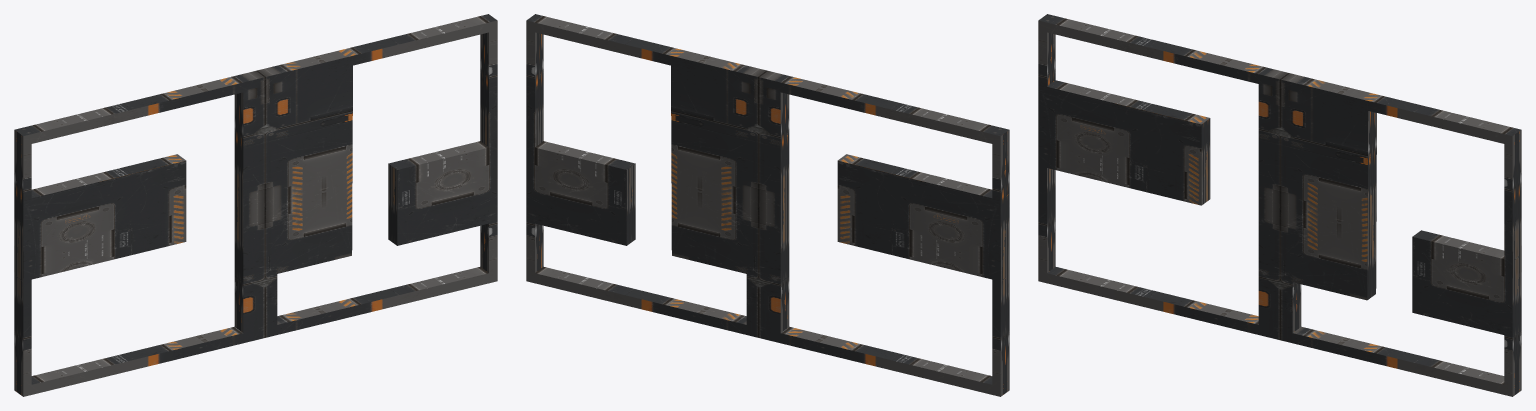
File: Level2.fbx
The picture shows the model from 3 angles, left to right: view 1: azimuth 30°, elevation 25°; view 2: azimuth 150°, elevation 25°; view 3: azimuth 330°, elevation 25°; orthographic projection.
Parts seen in each view (by area): view 1: Cube; view 2: Cube; view 3: Cube.
Part boxes in pixels (bbox=[...]): Cube: bbox=[14, 14, 497, 396]; Cube: bbox=[526, 14, 1009, 396]; Cube: bbox=[1038, 14, 1521, 396].
Bounding box in the file's own units: 3199 × 1681 × 104.
